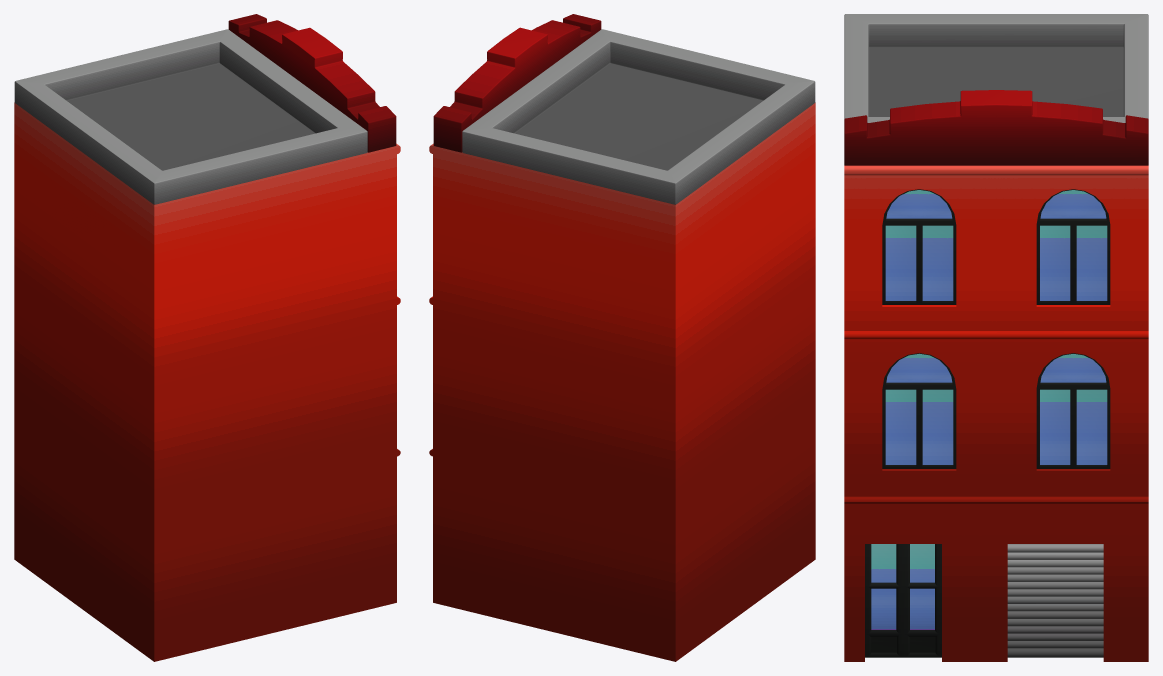
The model's file is SM_Building_Red.fbx.
3 renders of one model, left to right at view 1: azimuth 30°, elevation 25°; view 2: azimuth 150°, elevation 25°; view 3: azimuth 270°, elevation 25°, orthographic. The views are drawn at different scales.
Visible parts, largest first — view 1: SM_building_Red; view 2: SM_building_Red; view 3: SM_building_Red.
Part boxes in pixels (bbox=[...]): SM_building_Red: bbox=[14, 14, 400, 661]; SM_building_Red: bbox=[429, 14, 815, 661]; SM_building_Red: bbox=[844, 14, 1148, 661].
Bounding box in the file's own units: 508 × 1011 × 500.
Materials: 1 (1 with a texture image).
